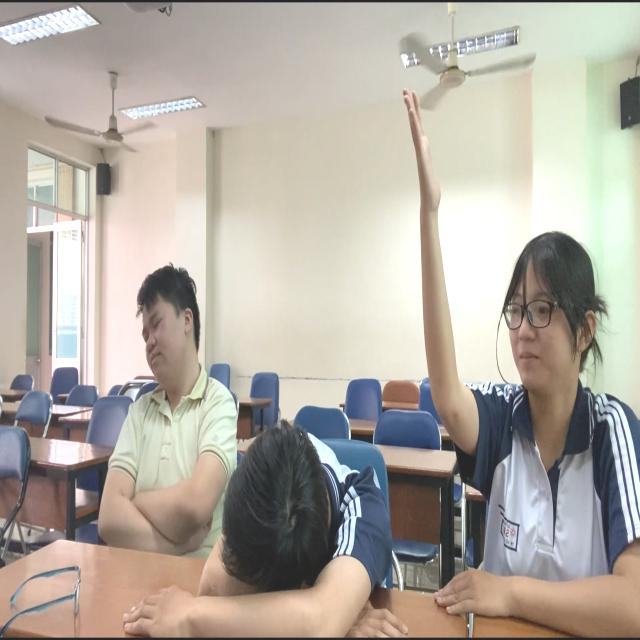raise_hand: (397, 87, 640, 640)
sleep: (197, 417, 393, 639)
